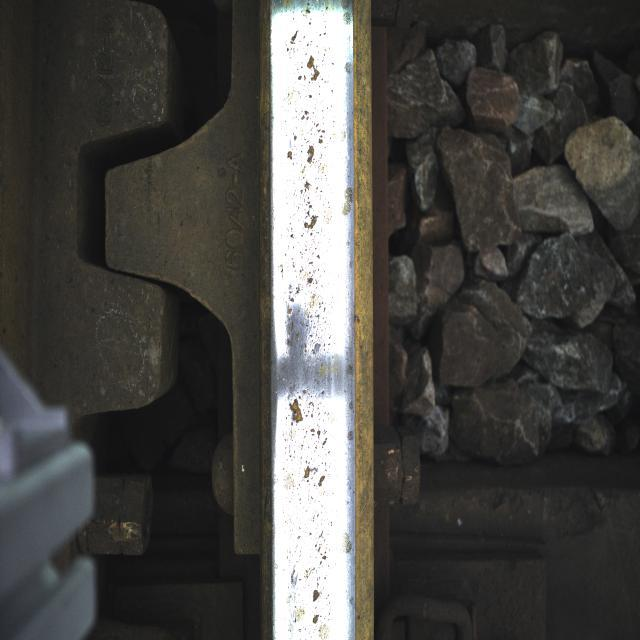scar: (275, 28, 349, 598)
